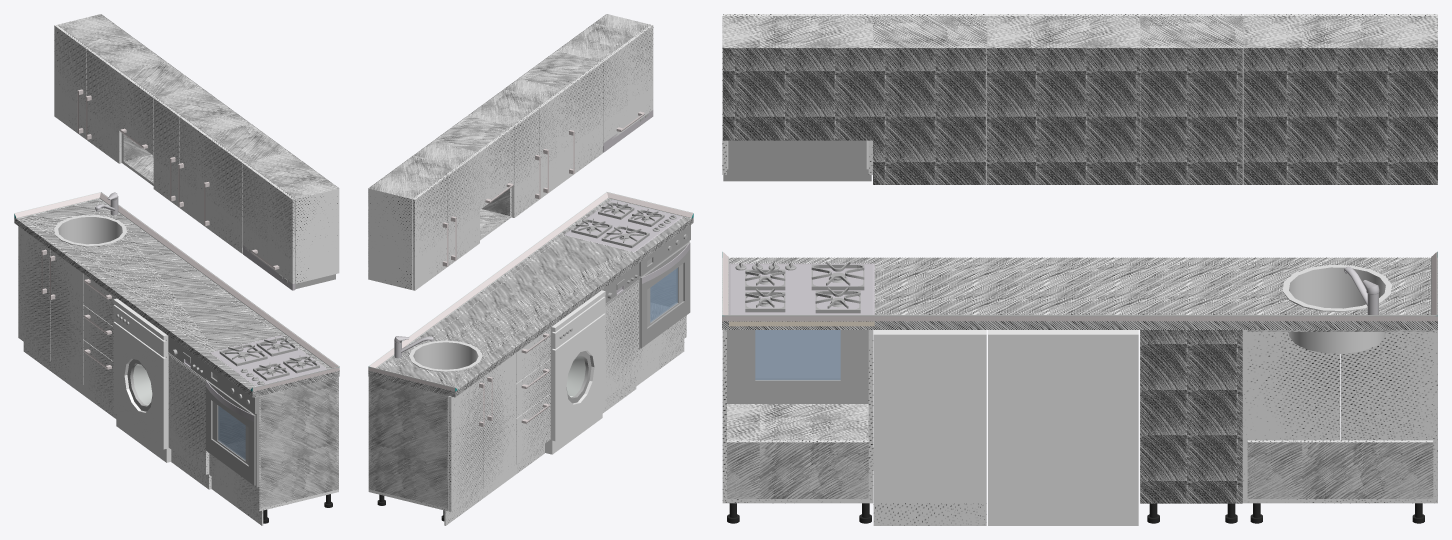
File: buc ion for lumion20.dae
The picture shows the model from 3 angles, left to right: view 1: azimuth 30°, elevation 25°; view 2: azimuth 150°, elevation 25°; view 3: azimuth 270°, elevation 25°; orthographic projection. The views are drawn at different scales.
Visible parts, largest first — view 1: Generic (×30), node-body-A8A8E0B3-8919-47BC-A55F-05C6B01CA616_1, node-body-849EEB7F-4857-4B72-93FE-27298619B776_6, node-body-33134BEA-604D-401A-969E-867B76A73362_1, node-body-1AAA3D15-5D08-4B93-80AC-950542D7A7AF_1 (×2), node-body-44680108-6550-4610-8F04-7033E38C1E54_3, node-body-A8A8E0B3-8919-47BC-A55F-05C6B01CA616_3, node-body-A8A8E0B3-8919-47BC-A55F-05C6B01CA616_2 (×2), node-body-44680108-6550-4610-8F04-7033E38C1E54_1, node-body-44680108-6550-4610-8F04-7033E38C1E54_2, node-body-44680108-6550-4610-8F04-7033E38C1E54_4, node-body-849EEB7F-4857-4B72-93FE-27298619B776_5 (+4 smaller); view 2: Generic (×29), node-body-A8A8E0B3-8919-47BC-A55F-05C6B01CA616_1, node-body-33134BEA-604D-401A-969E-867B76A73362_1, node-body-849EEB7F-4857-4B72-93FE-27298619B776_6, node-body-1AAA3D15-5D08-4B93-80AC-950542D7A7AF_1 (×2), node-body-44680108-6550-4610-8F04-7033E38C1E54_3, node-body-A8A8E0B3-8919-47BC-A55F-05C6B01CA616_3, node-body-A8A8E0B3-8919-47BC-A55F-05C6B01CA616_2 (×2), node-body-44680108-6550-4610-8F04-7033E38C1E54_2, node-body-44680108-6550-4610-8F04-7033E38C1E54_1, node-body-44680108-6550-4610-8F04-7033E38C1E54_4, node-body-849EEB7F-4857-4B72-93FE-27298619B776_5 (+4 smaller); view 3: Generic (×23), node-body-A8A8E0B3-8919-47BC-A55F-05C6B01CA616_2 (×2), node-body-849EEB7F-4857-4B72-93FE-27298619B776_4, node-body-33134BEA-604D-401A-969E-867B76A73362_1, node-body-1AAA3D15-5D08-4B93-80AC-950542D7A7AF_1 (×2), node-body-44680108-6550-4610-8F04-7033E38C1E54_1, node-body-00E22854-CC48-41A2-BC3A-684AF0BFC773_3, node-body-44680108-6550-4610-8F04-7033E38C1E54_2, node-body-A8A8E0B3-8919-47BC-A55F-05C6B01CA616_3, node-body-849EEB7F-4857-4B72-93FE-27298619B776_1, node-body-A8A8E0B3-8919-47BC-A55F-05C6B01CA616_5, node-body-1AAA3D15-5D08-4B93-80AC-950542D7A7AF_2 (+1 smaller).
Part boxes in pixels (<box>): Generic (×30): <box>14,14,339,525</box>; node-body-A8A8E0B3-8919-47BC-A55F-05C6B01CA616_1: <box>113,321,166,449</box>; node-body-849EEB7F-4857-4B72-93FE-27298619B776_6: <box>168,355,208,474</box>; node-body-33134BEA-604D-401A-969E-867B76A73362_1: <box>210,335,326,386</box>; node-body-1AAA3D15-5D08-4B93-80AC-950542D7A7AF_1 (×2): <box>58,217,122,244</box>; node-body-44680108-6550-4610-8F04-7033E38C1E54_3: <box>205,380,255,485</box>; node-body-A8A8E0B3-8919-47BC-A55F-05C6B01CA616_3: <box>113,304,171,462</box>; node-body-A8A8E0B3-8919-47BC-A55F-05C6B01CA616_2 (×2): <box>133,339,168,448</box>; node-body-44680108-6550-4610-8F04-7033E38C1E54_1: <box>206,373,259,487</box>; node-body-44680108-6550-4610-8F04-7033E38C1E54_2: <box>218,405,245,460</box>; node-body-44680108-6550-4610-8F04-7033E38C1E54_4: <box>205,363,256,413</box>; node-body-849EEB7F-4857-4B72-93FE-27298619B776_5: <box>168,336,206,381</box>; Generic (×29): <box>368,14,693,525</box>; node-body-A8A8E0B3-8919-47BC-A55F-05C6B01CA616_1: <box>552,313,605,441</box>; node-body-33134BEA-604D-401A-969E-867B76A73362_1: <box>564,199,682,252</box>; node-body-849EEB7F-4857-4B72-93FE-27298619B776_6: <box>604,282,638,398</box>; node-body-1AAA3D15-5D08-4B93-80AC-950542D7A7AF_1 (×2): <box>413,342,478,369</box>; node-body-44680108-6550-4610-8F04-7033E38C1E54_3: <box>640,242,690,347</box>; node-body-A8A8E0B3-8919-47BC-A55F-05C6B01CA616_3: <box>545,296,605,454</box>; node-body-A8A8E0B3-8919-47BC-A55F-05C6B01CA616_2 (×2): <box>550,331,585,440</box>; node-body-44680108-6550-4610-8F04-7033E38C1E54_2: <box>650,268,677,322</box>; node-body-44680108-6550-4610-8F04-7033E38C1E54_1: <box>639,241,689,349</box>; node-body-44680108-6550-4610-8F04-7033E38C1E54_4: <box>639,225,690,276</box>; node-body-849EEB7F-4857-4B72-93FE-27298619B776_5: <box>602,263,639,306</box>; Generic (×23): <box>722,16,1437,503</box>; node-body-A8A8E0B3-8919-47BC-A55F-05C6B01CA616_2 (×2): <box>988,341,1138,504</box>; node-body-849EEB7F-4857-4B72-93FE-27298619B776_4: <box>873,339,986,498</box>; node-body-33134BEA-604D-401A-969E-867B76A73362_1: <box>729,261,874,326</box>; node-body-1AAA3D15-5D08-4B93-80AC-950542D7A7AF_1 (×2): <box>1289,267,1385,353</box>; node-body-44680108-6550-4610-8F04-7033E38C1E54_1: <box>727,330,868,403</box>; node-body-00E22854-CC48-41A2-BC3A-684AF0BFC773_3: <box>723,140,871,181</box>; node-body-44680108-6550-4610-8F04-7033E38C1E54_2: <box>755,330,840,380</box>; node-body-A8A8E0B3-8919-47BC-A55F-05C6B01CA616_3: <box>988,504,1138,525</box>; node-body-849EEB7F-4857-4B72-93FE-27298619B776_1: <box>873,503,986,525</box>; node-body-A8A8E0B3-8919-47BC-A55F-05C6B01CA616_5: <box>988,330,1138,340</box>; node-body-1AAA3D15-5D08-4B93-80AC-950542D7A7AF_2: <box>1282,264,1392,314</box>.
Bounding box in the file's own units: 0.621 × 2.85 × 2.1.
